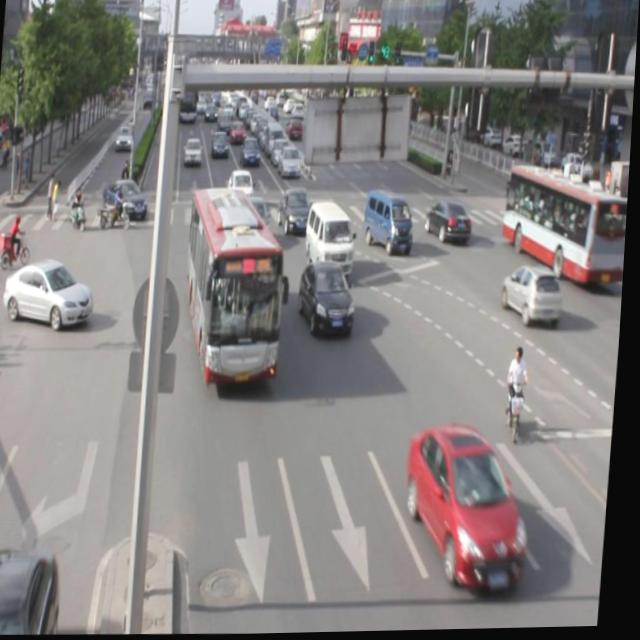car: (406, 423, 539, 598), (0, 550, 70, 636), (300, 259, 360, 338), (503, 265, 568, 329), (425, 201, 474, 246), (280, 188, 316, 236)
truck: (306, 203, 359, 279), (365, 191, 418, 259)
van: (183, 187, 292, 387), (500, 164, 632, 288)
